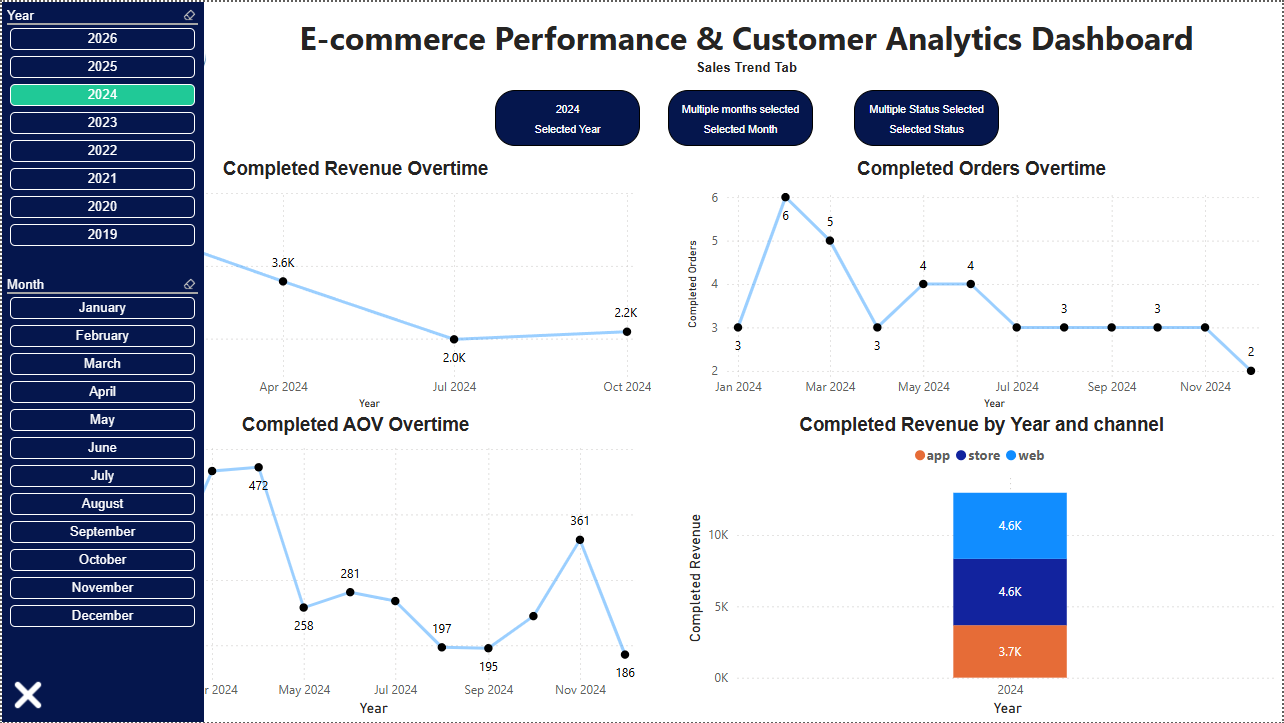

The page's visual inventory and layout, read from the dashboard file:
{"tool":"powerbi","page":{"name":"Sales Trends","canvas":[1280,720],"ordinal":2},"visuals":[{"type":"columnChart","fields":{"Category":["dim_date.full_date.Variation.Date Hierarchy.Year","dim_date.full_date.Variation.Date Hierarchy.Quarter","dim_date.full_date.Variation.Date Hierarchy.Month","dim_date.full_date.Variation.Date Hierarchy.Day"],"Series":["fact_order.channel"],"Y":["Measure.Completed Revenue"]},"box":[680,412.2,600,306.7],"z":0},{"type":"image","title":"Logo","box":[45.3,0,211.3,165.9],"z":1000},{"type":"shape","title":"Side Bar","box":[0,0,52.6,720],"z":2000},{"type":"actionButton","title":"Date Filter Button","box":[0,7.9,53.1,54.2],"z":3000},{"type":"lineChart","title":"Completed Revenue Overtime","fields":{"Category":["dim_date.full_date.Variation.Date Hierarchy.Year","dim_date.full_date.Variation.Date Hierarchy.Quarter","dim_date.full_date.Variation.Date Hierarchy.Month","dim_date.full_date.Variation.Date Hierarchy.Day"],"Y":["Measure.Completed Revenue"]},"box":[54.4,155.6,600,256.7],"z":5000},{"type":"actionButton","title":"Executive Overview Tab Button","box":[0,68.7,52.2,46.7],"z":6000},{"type":"actionButton","title":"Data Quality & Notes Tab Button","box":[0,182.4,52.3,46.7],"z":7000},{"type":"actionButton","title":"Product Performance Tab Button","box":[0,125.4,52.2,46.7],"z":9000},{"type":"actionButton","title":"Home Page Tab Button","box":[1.1,618.9,52.2,46.7],"z":10000},{"type":"lineChart","title":"Completed AOV Overtime","fields":{"Category":["dim_date.full_date.Variation.Date Hierarchy.Year","dim_date.full_date.Variation.Date Hierarchy.Quarter","dim_date.full_date.Variation.Date Hierarchy.Month","dim_date.full_date.Variation.Date Hierarchy.Day"],"Y":["Measure.AOV (Completed)"]},"box":[54.4,412.2,600,306.7],"z":10500},{"type":"actionButton","title":"Close Button","box":[0,665.4,52,54.2],"z":13000},{"type":"lineChart","title":"Completed Orders Overtime","fields":{"Category":["dim_date.full_date.Variation.Date Hierarchy.Year","dim_date.full_date.Variation.Date Hierarchy.Quarter","dim_date.full_date.Variation.Date Hierarchy.Month","dim_date.full_date.Variation.Date Hierarchy.Day"],"Y":["Measure.Completed Orders"]},"box":[680,155.6,600,256.7],"z":14000},{"type":"textbox","title":"Report Name Text Box","box":[259,8,972,75],"z":17000},{"type":"card","title":"Selected Month Card","fields":{"Values":["Measure.Selected Month"]},"box":[666,88,145,56],"z":18000},{"type":"card","title":"Selected Year Card","fields":{"Values":["Measure.Selected Year"]},"box":[493,88,145,56],"z":19000},{"type":"card","title":"Selected Status Card","fields":{"Values":["Measure.Selected Status"]},"box":[852,88,145,56],"z":20000}]}

Visuals, with their boxes in screenshot pixels (x1, y1, x2, y2), scaled from the page's 1280x720 canvas onto the 1284x723 screenshot:
columnChart - dim_date.full_date.Variation.Date Hierarchy.Year x dim_date.full_date.Variation.Date Hierarchy.Quarter: 682/414/1283/722
"Logo" image: 45/0/257/167
"Side Bar" shape: 0/0/53/722
"Date Filter Button" actionButton: 0/8/53/62
"Completed Revenue Overtime" lineChart: 55/156/656/414
"Executive Overview Tab Button" actionButton: 0/69/52/116
"Data Quality & Notes Tab Button" actionButton: 0/183/52/230
"Product Performance Tab Button" actionButton: 0/126/52/173
"Home Page Tab Button" actionButton: 1/621/53/668
"Completed AOV Overtime" lineChart: 55/414/656/722
"Close Button" actionButton: 0/668/52/722
"Completed Orders Overtime" lineChart: 682/156/1283/414
"Report Name Text Box" textbox: 260/8/1235/83
"Selected Month Card" card: 668/88/814/145
"Selected Year Card" card: 495/88/640/145
"Selected Status Card" card: 855/88/1000/145
